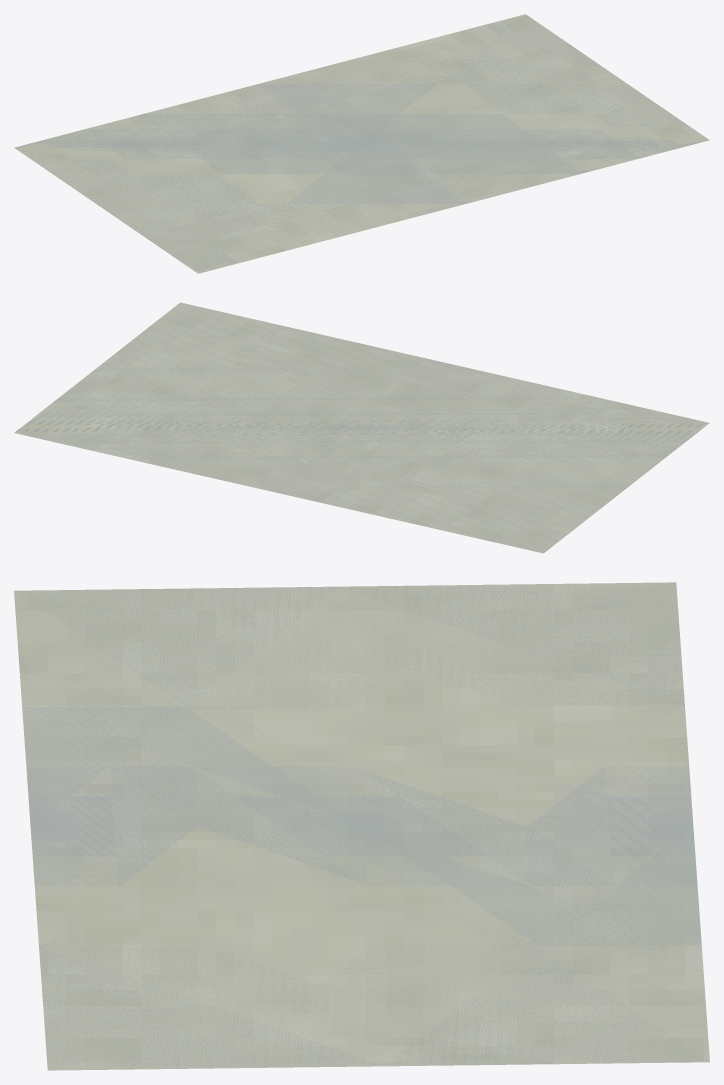
Rendered from 人民英雄纪念碑227.dae.
3 renders of one model, top to bottom at view 1: azimuth 30°, elevation 25°; view 2: azimuth 150°, elevation 25°; view 3: azimuth 270°, elevation 25°, orthographic. The views are drawn at different scales.
Parts seen in each view (by area): view 1: SketchUp; view 2: SketchUp; view 3: SketchUp.
Boxes of the visible parts, <box> form: SketchUp: <box>14,14,709,273</box>; SketchUp: <box>14,302,709,553</box>; SketchUp: <box>14,582,709,1070</box>.
Size of the model in its own units: 128 by 76.88 by 0.
